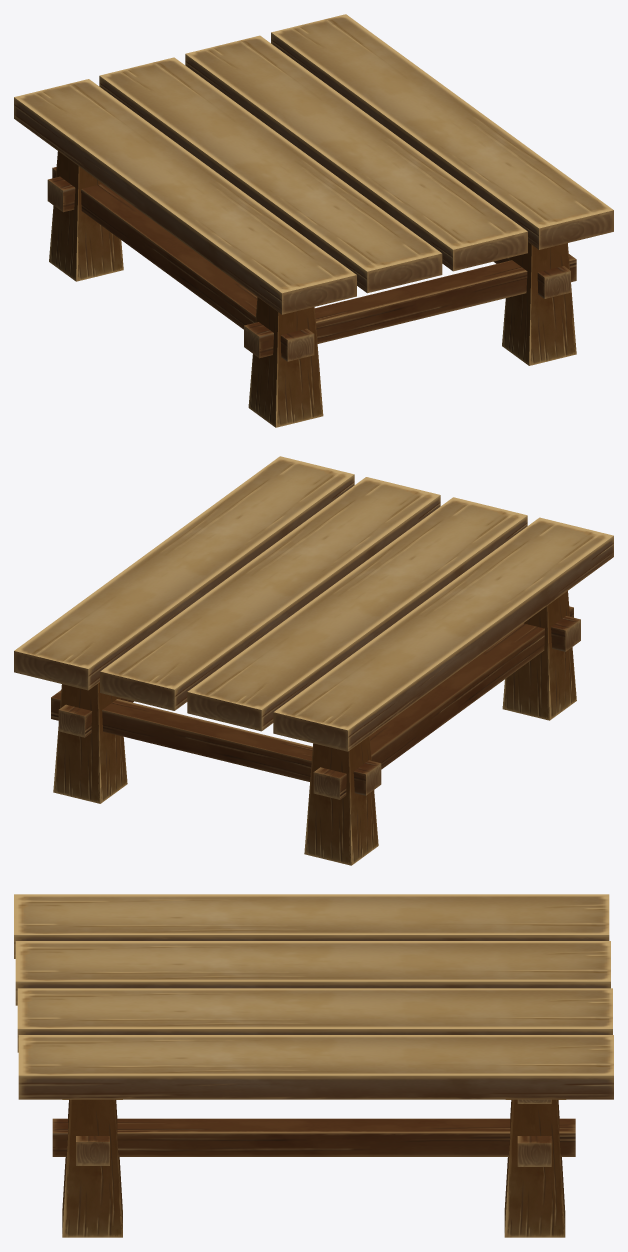
File: assets_table.fbx
3 renders of one model, top to bottom at view 1: azimuth 30°, elevation 25°; view 2: azimuth 150°, elevation 25°; view 3: azimuth 270°, elevation 25°, orthographic. The views are drawn at different scales.
Parts seen in each view (by area): view 1: assets_table; view 2: assets_table; view 3: assets_table.
Boxes of the visible parts, box(x1,y1,x2,y2) form: assets_table: box(14, 14, 613, 427); assets_table: box(14, 456, 613, 865); assets_table: box(14, 894, 613, 1237).
Size of the model in its own units: 15.18 by 6.7 by 21.25.
